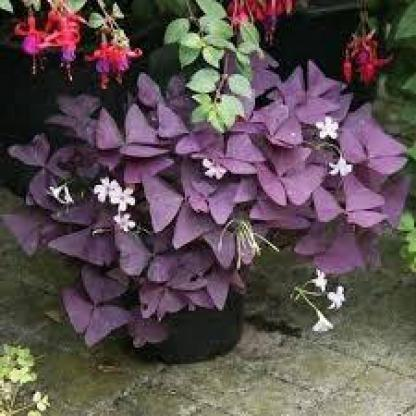Kupu-Kupu: (136, 94, 252, 171), (21, 119, 110, 210), (118, 238, 208, 312), (149, 173, 226, 238), (66, 245, 121, 332), (260, 147, 319, 203), (267, 81, 317, 142)
